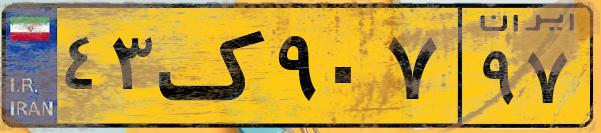0: (330, 28, 385, 110)
3: (110, 28, 158, 98)
4: (57, 26, 110, 100)
7: (385, 28, 445, 110), (525, 38, 570, 115)
9: (270, 28, 330, 110), (475, 38, 525, 113)
ک: (158, 12, 270, 120)
